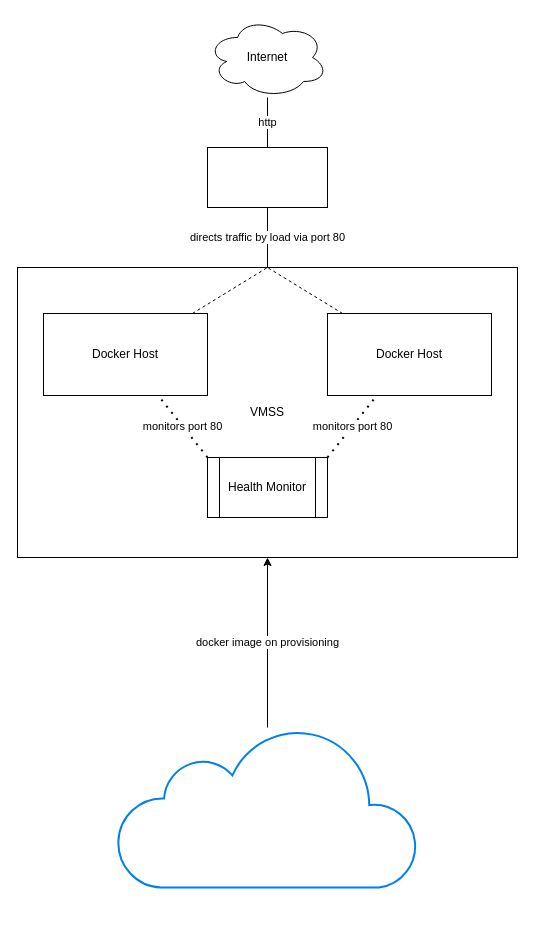
This 535x926 diagram has some shape labels left out. The centre of each missing label's shape, as x and y in pixels:
"docker" goes at point 267,807.
"Load Balancer" goes at point 267,177.
